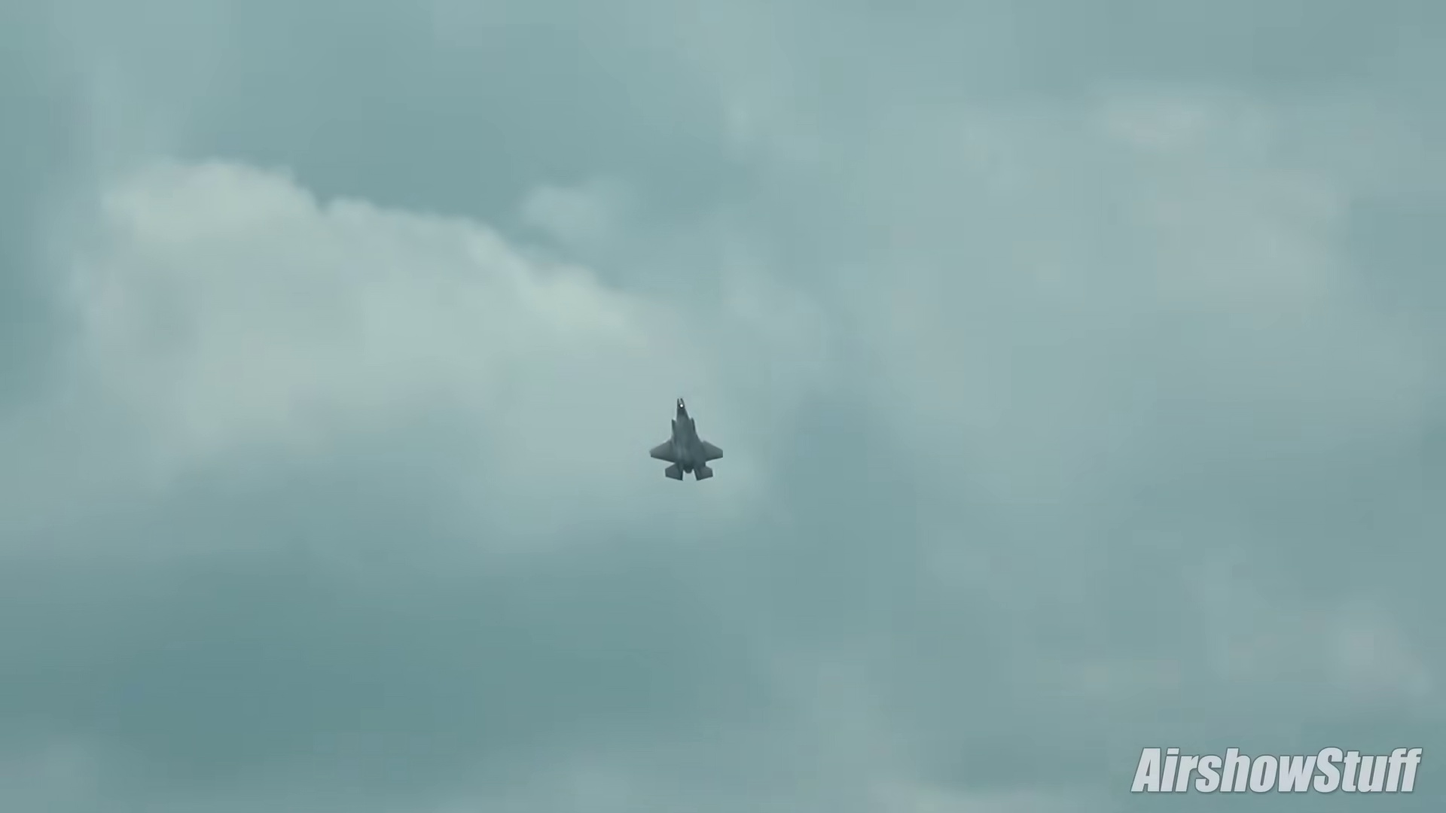F35: (650, 395, 728, 488)
